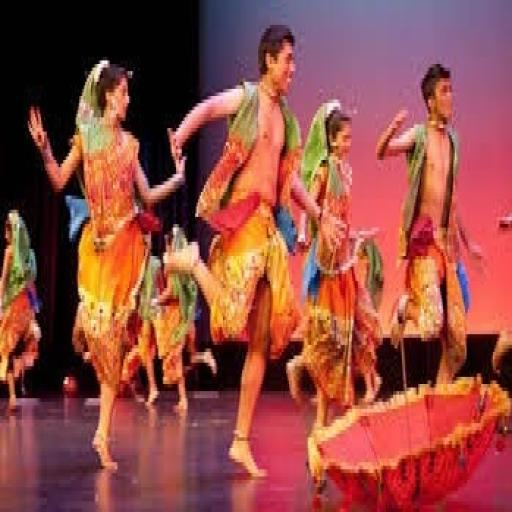dancing: (163, 18, 331, 487), (26, 53, 188, 480), (374, 57, 475, 395)
